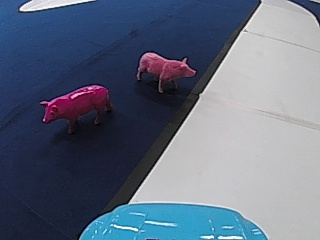pig: (36, 80, 113, 133), (134, 49, 197, 92)
